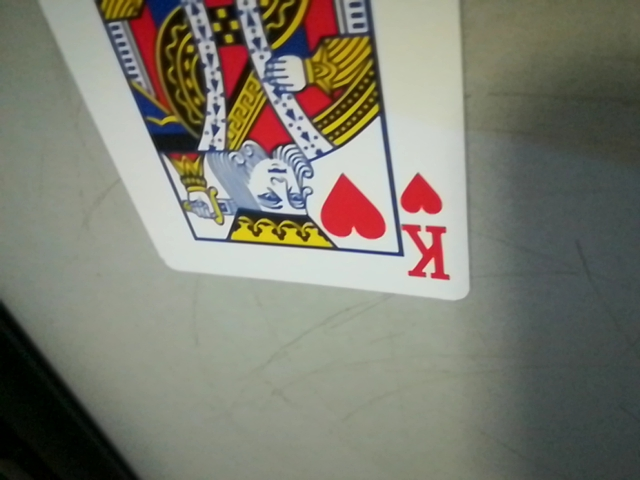hx k: (392, 167, 463, 292)
